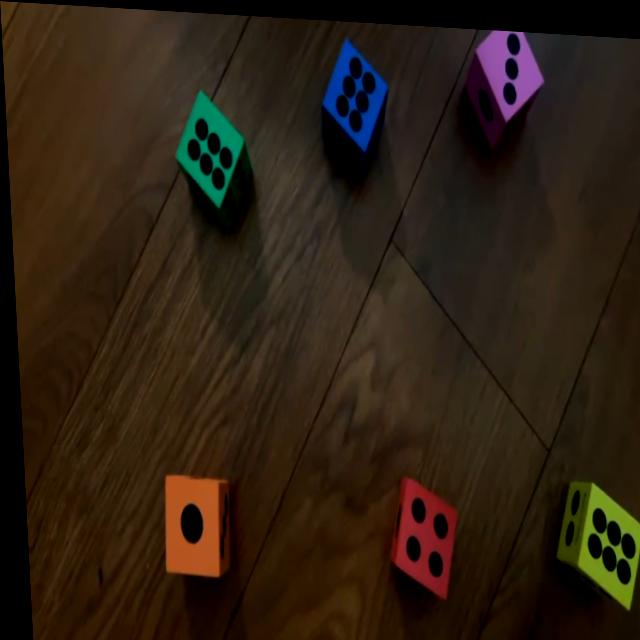blue_block: (318, 31, 390, 172)
red_block: (382, 471, 457, 594)
